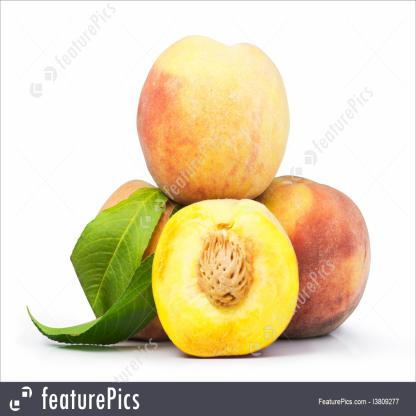peach leaf: (22, 260, 158, 347), (73, 188, 164, 314)
